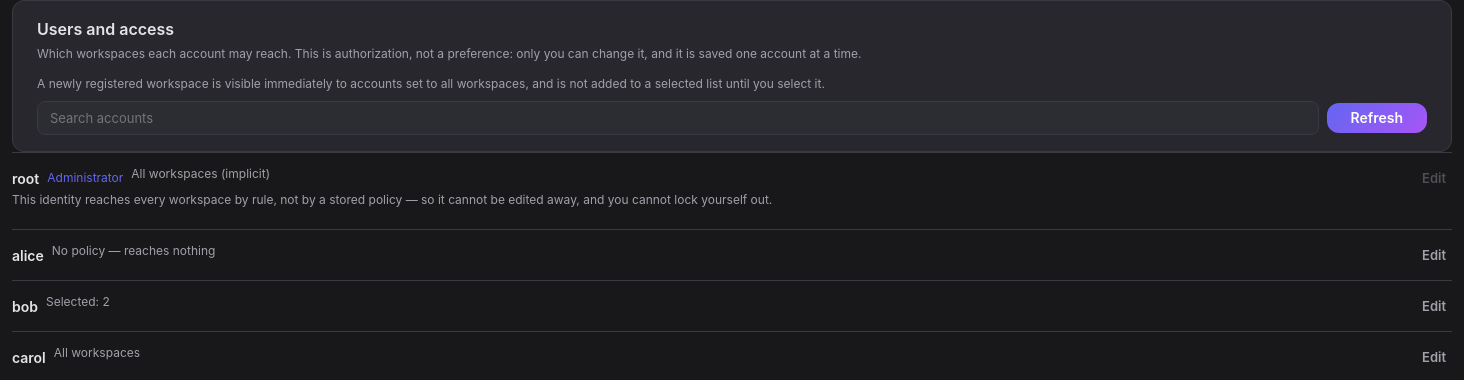
Scenario: the roster › filters accounts by the search box
The width and height of the screenshot is (1464, 380).
Type "bo" into the field with test id "settings-user-access-account-search" at (678,118), box [37,101,1318,135]
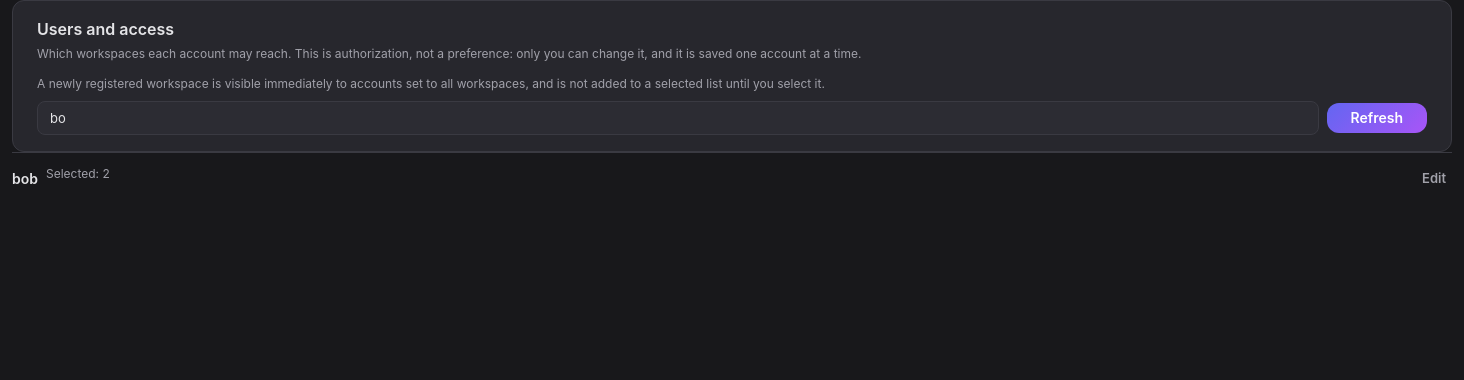
Expected: the element with test id "settings-user-access-row" shows "bob", [12,170,38,186]
Result: the number of elements with test id "settings-user-access-row" is 1 at [12,152,1452,203]
